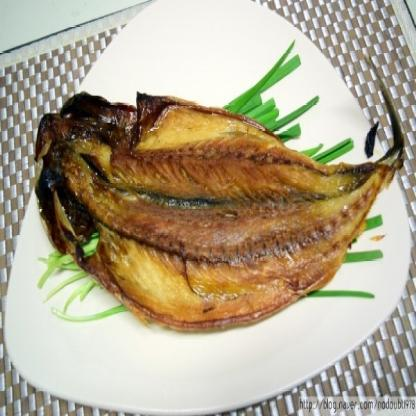Peixe: (30, 78, 413, 334)
